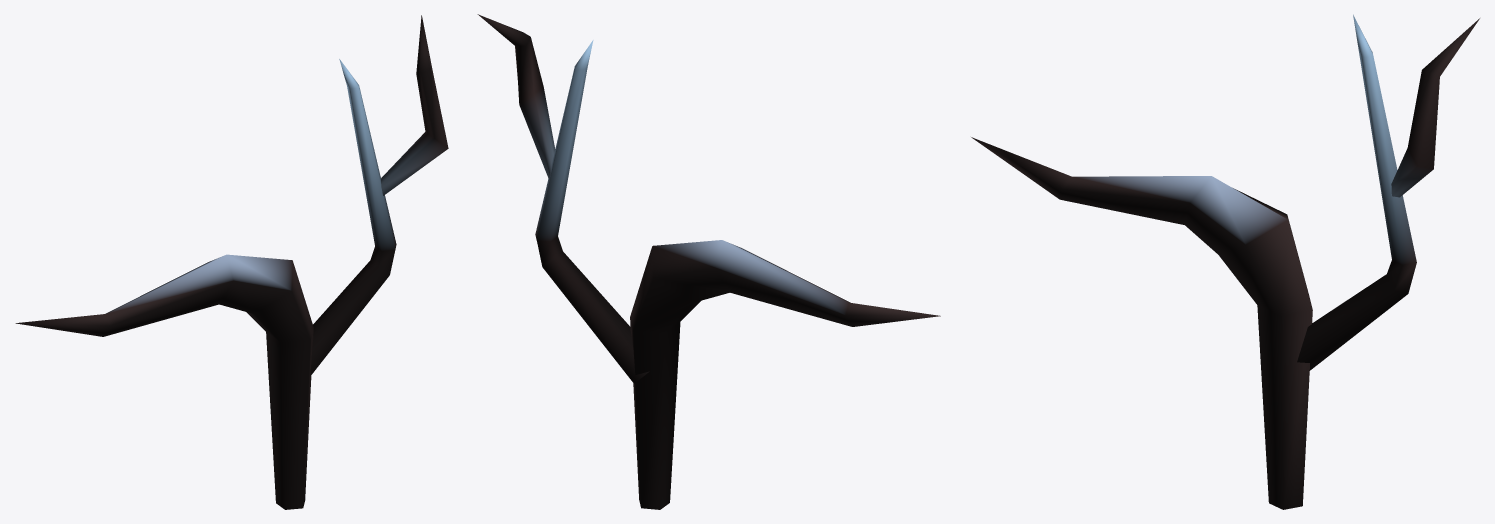
File: Bush_01.fbx
3 views of the same model, side by side, from view 1: azimuth 30°, elevation 25°; view 2: azimuth 150°, elevation 25°; view 3: azimuth 330°, elevation 25° (orthographic). The views are drawn at different scales.
Parts seen in each view (by area): view 1: Bush_01; view 2: Bush_01; view 3: Bush_01.
Boxes of the visible parts, x1=… form: Bush_01: x1=15, y1=15, x2=448, y2=509; Bush_01: x1=477, y1=14, x2=940, y2=509; Bush_01: x1=971, y1=14, x2=1479, y2=509.
Size of the model in its own units: 1428 by 1419 by 239.
